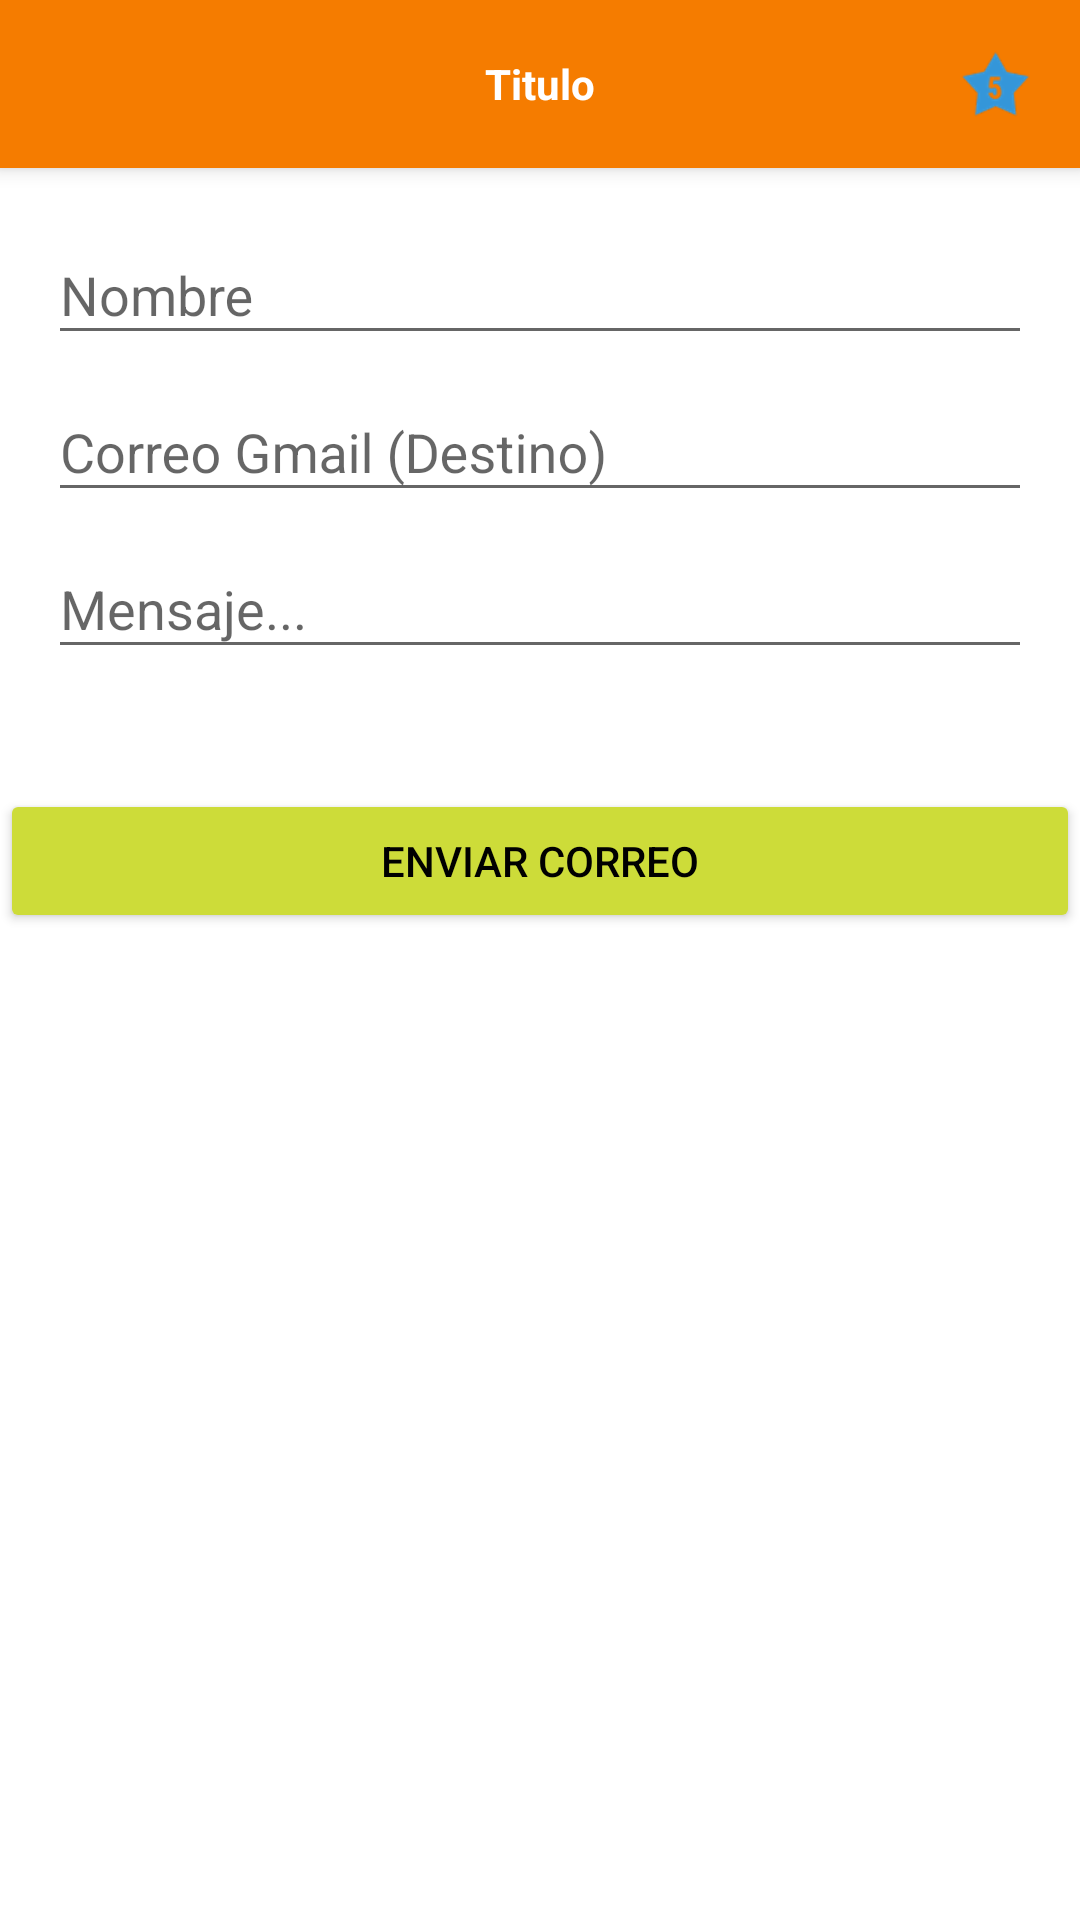

Named icons in this screenshot (1080 x 1920) and their centers, [x,y]:
star hotel: [996,84]
